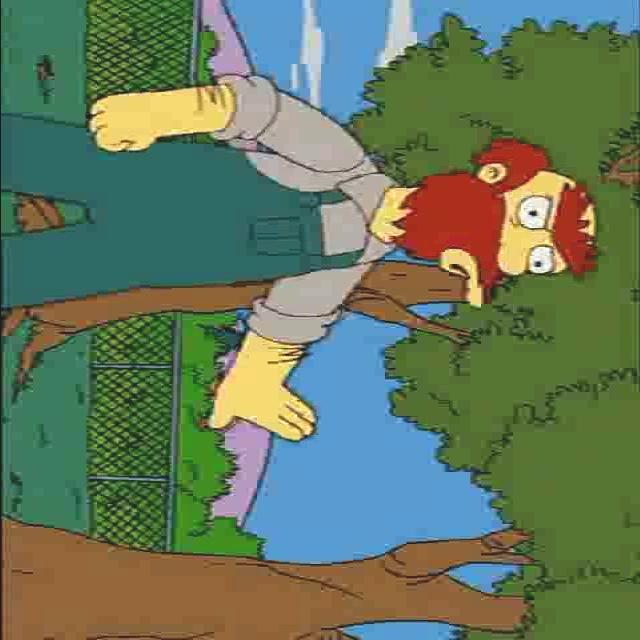Groundskeeper Willie: (382, 138, 600, 310)
